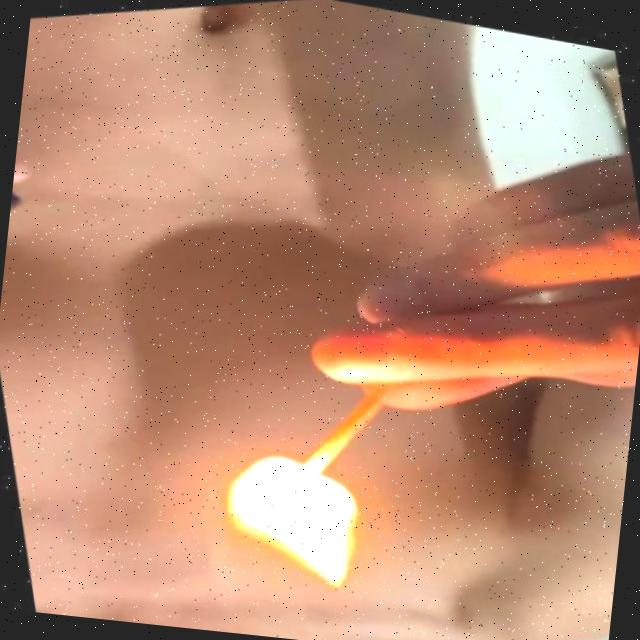fire: (197, 421, 387, 618)
